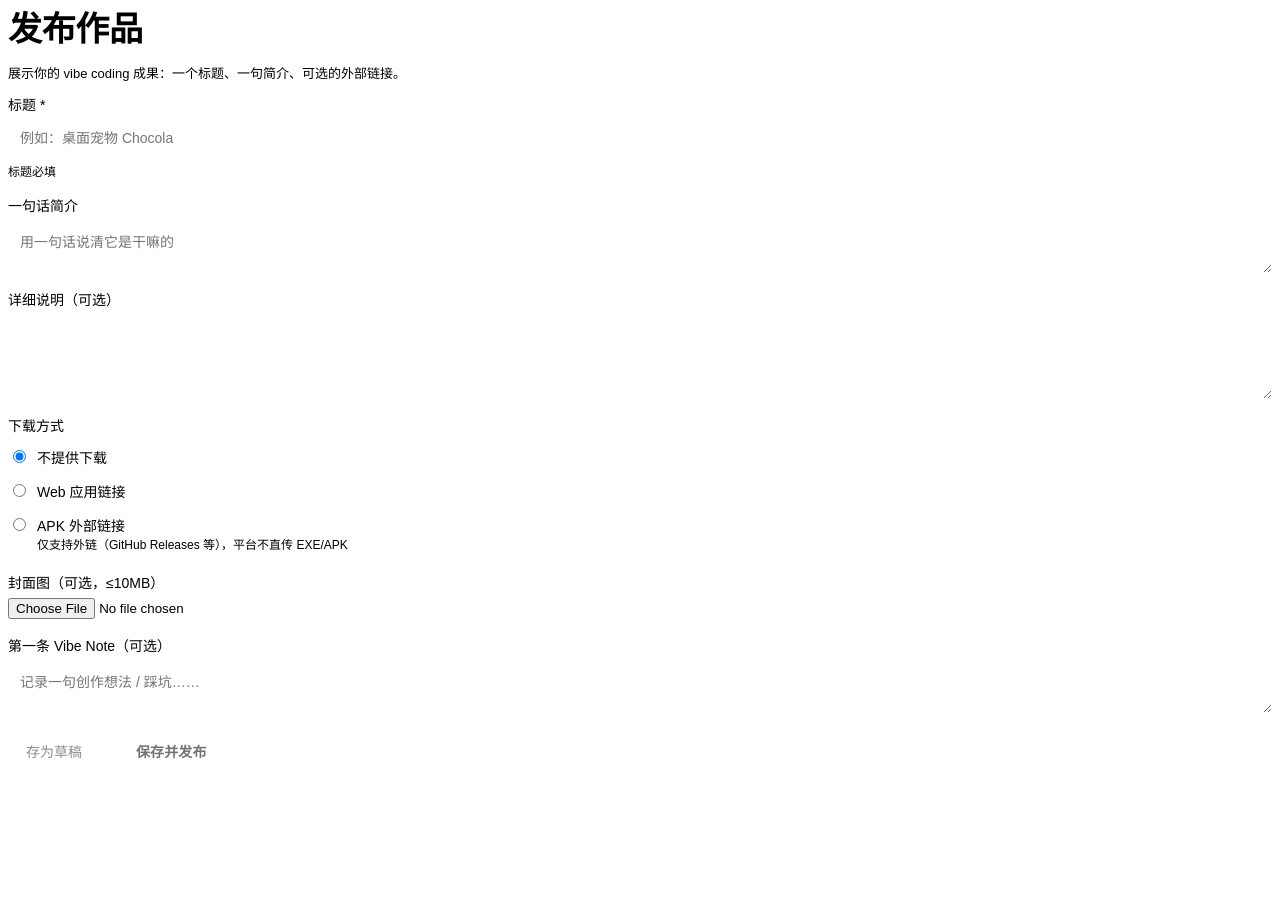
Test: PublishPage validation › requires https URL when release kind is web
Type "Test App" into the field with placeholder "例如：桌面宠物 Chocola" at (640, 138), box [8,120,1272,156]
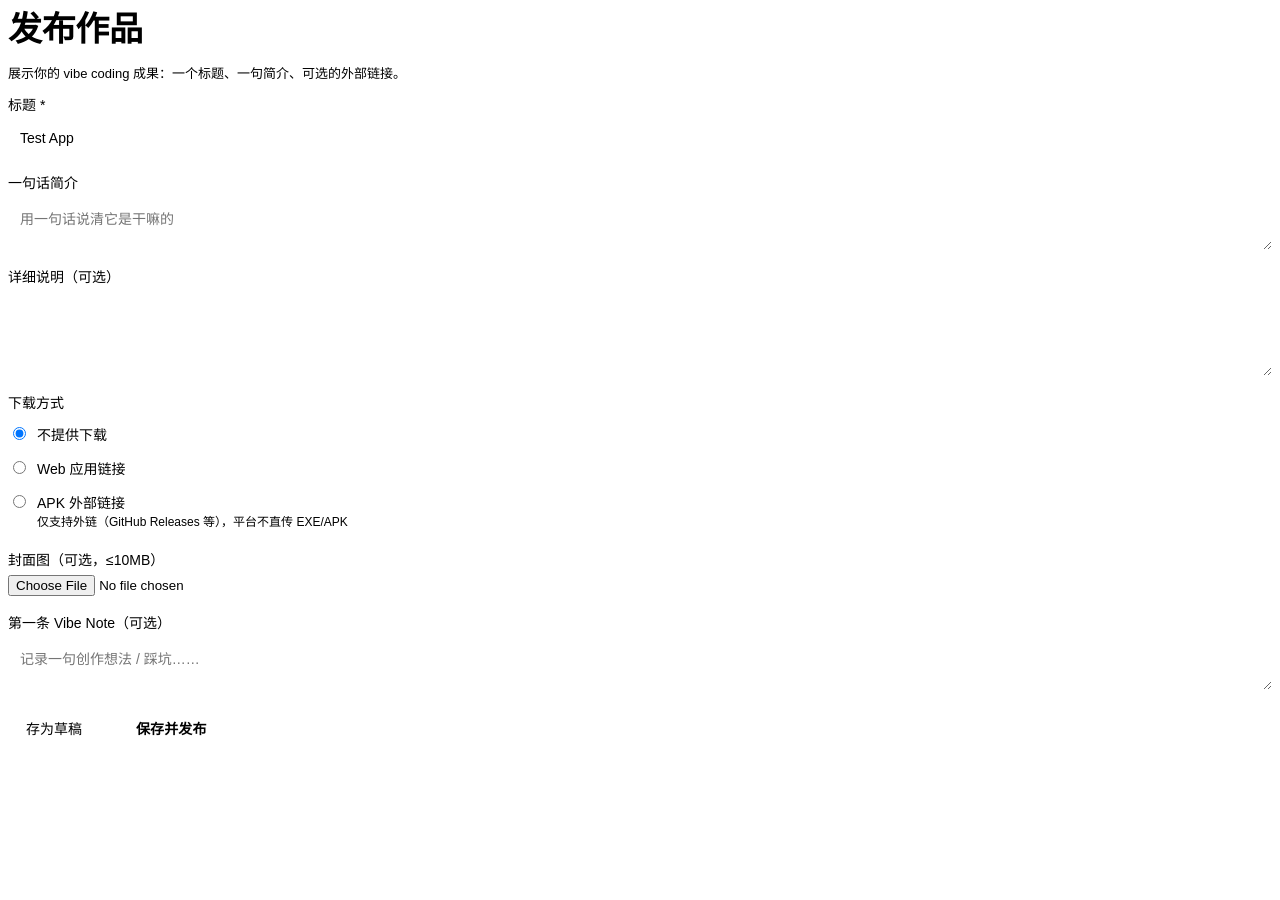
Click the radio button labelled "Web 应用链接" at (20, 467), box [13,460,26,474]
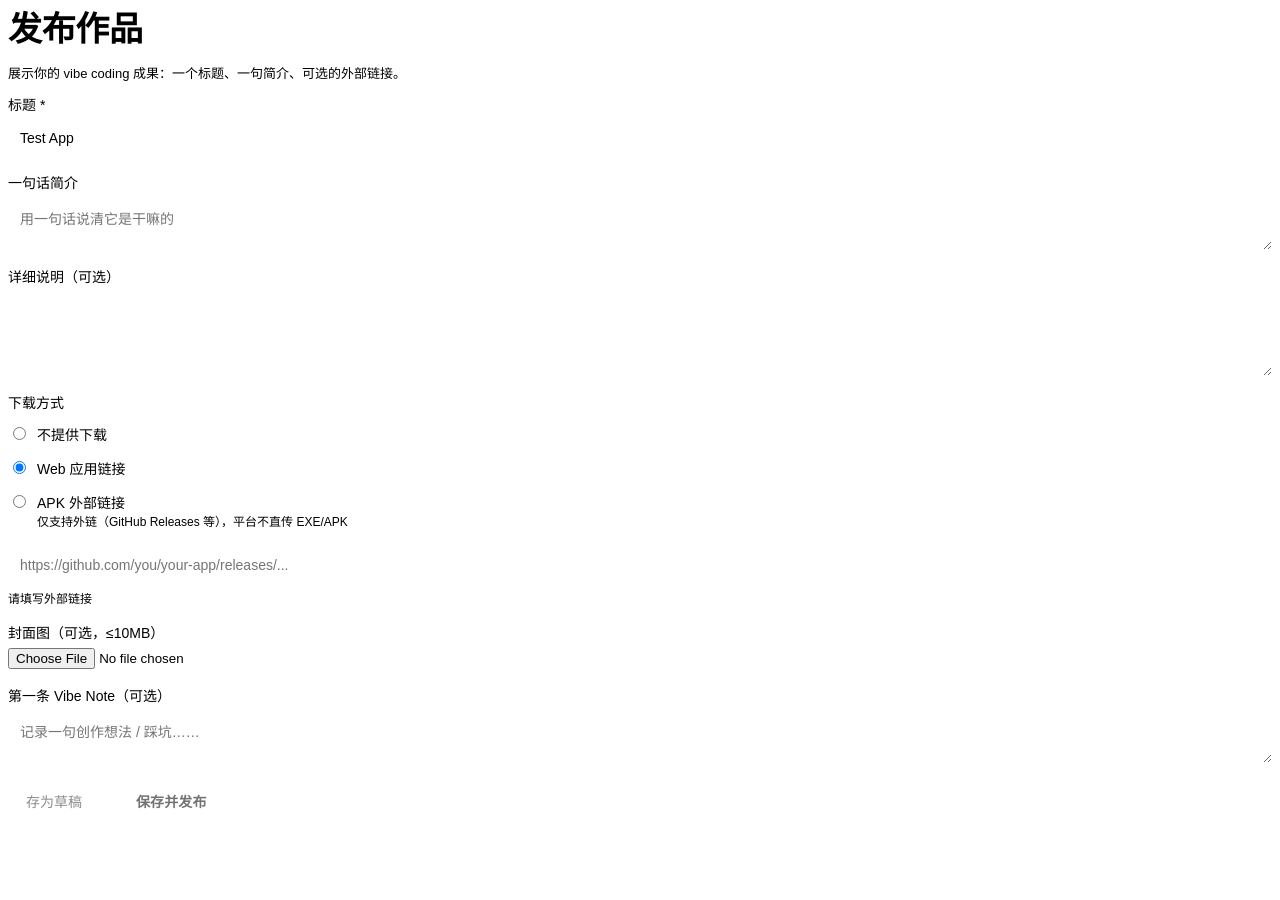
Type "http://insecure.example.com" into the field with placeholder "https://github.com/you/your-app/releases/..." at (640, 564), box [8,546,1272,582]
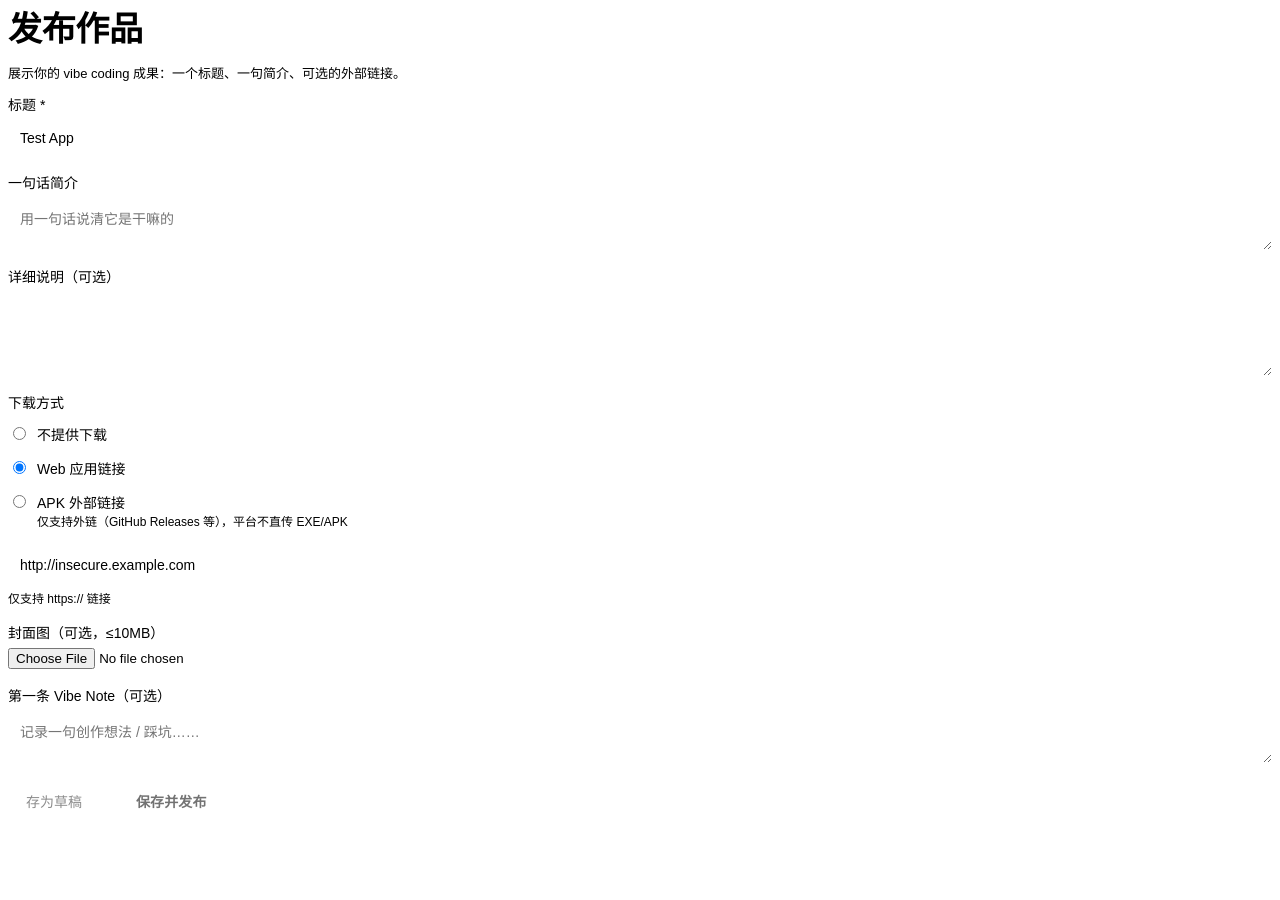
Expected: the button "保存并发布" is disabled, [112,778,230,822]
Expected: the text "仅支持 https:// 链接" is shown, [8,592,111,606]
